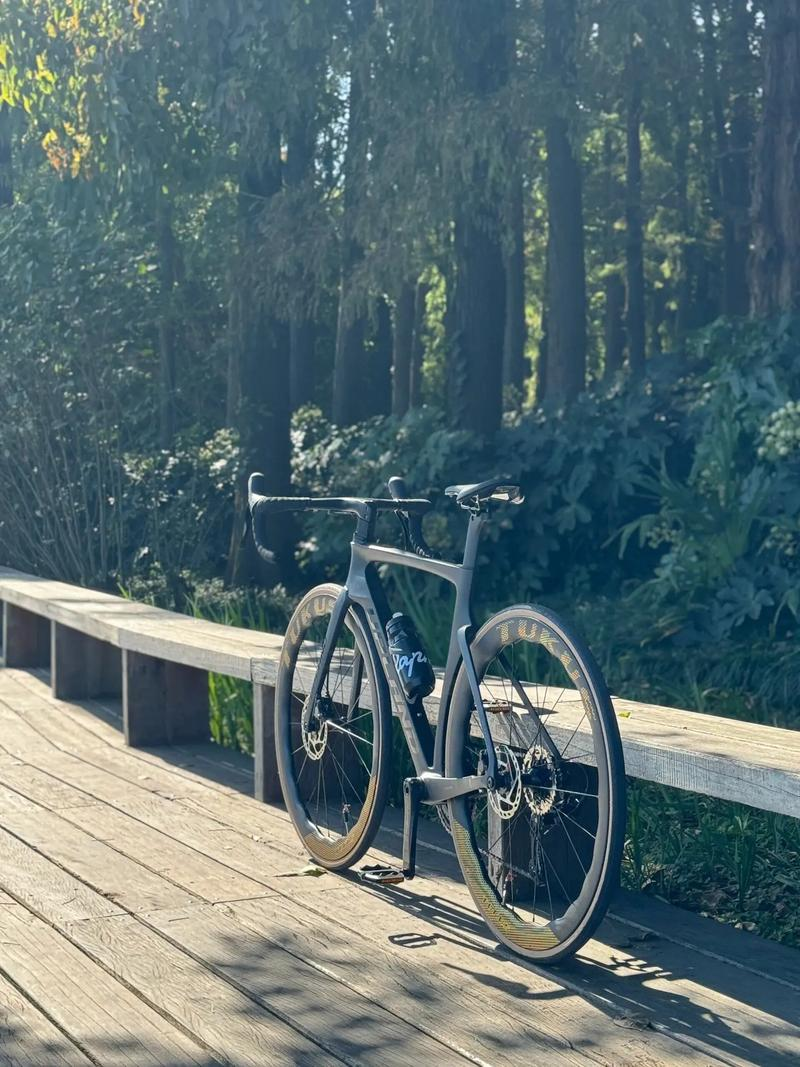单车: (201, 449, 690, 980)
